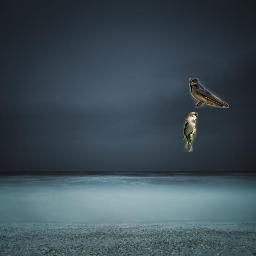Sparrow: (183, 112, 198, 152)
Swallow: (189, 78, 229, 108)
